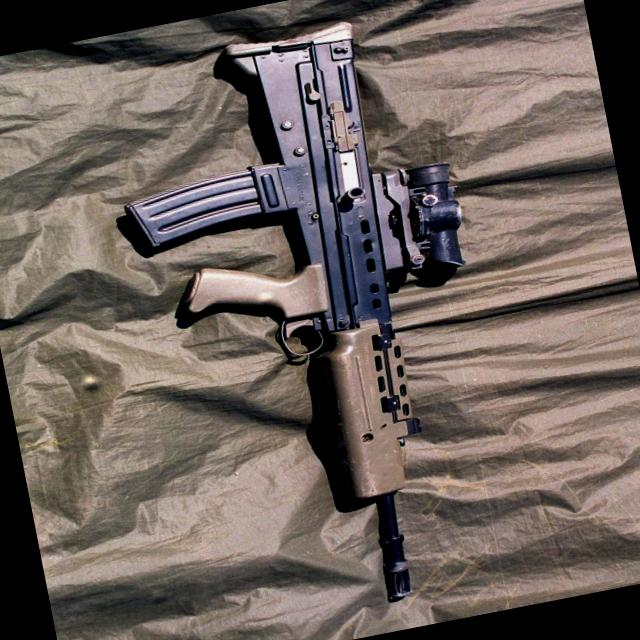long weapon: (135, 0, 563, 633)
